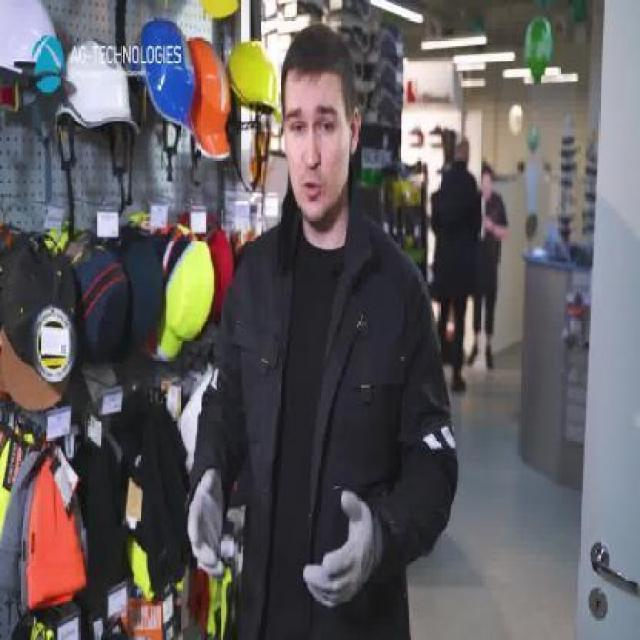Gloves: (299, 490, 381, 612), (188, 466, 227, 594)
Helmet: (132, 20, 200, 140), (55, 40, 140, 134), (0, 0, 69, 89), (186, 34, 232, 158), (228, 44, 281, 119)
